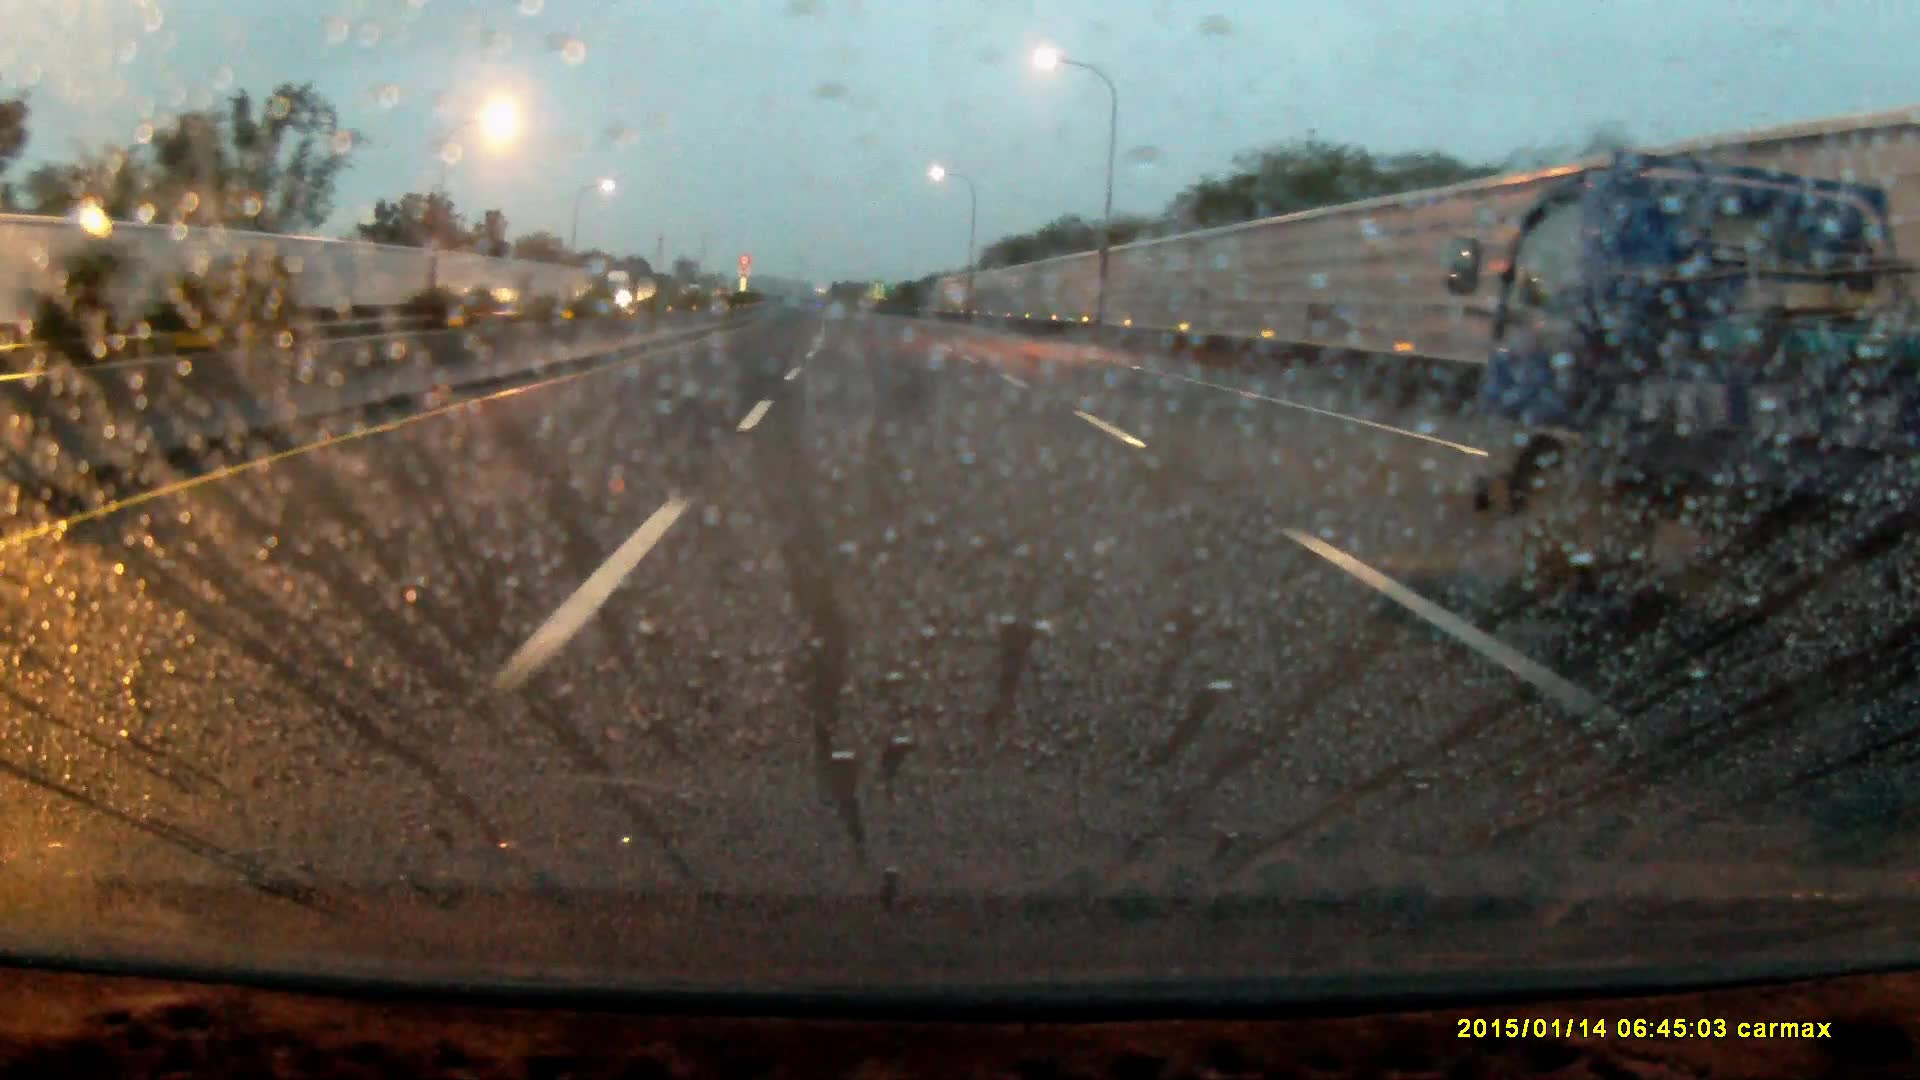vehicle: (1486, 154, 1920, 608), (603, 268, 640, 305)
